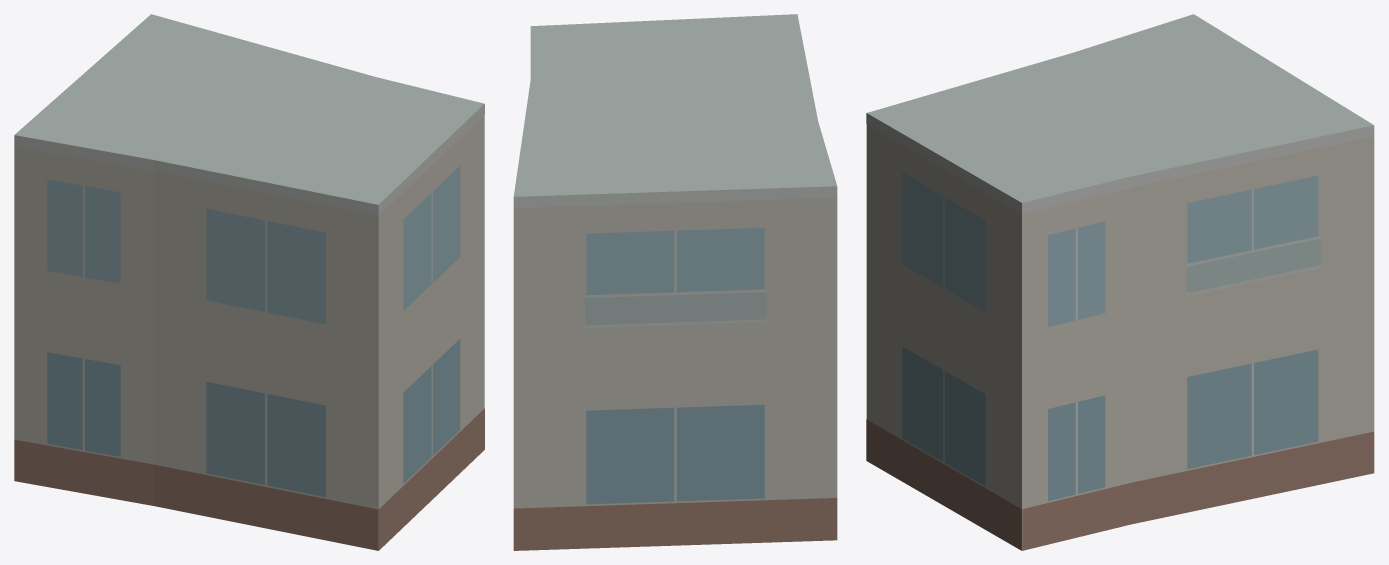
File: survey-upis-32474426.glb
3 views of the same model, side by side, from view 1: azimuth 30°, elevation 25°; view 2: azimuth 150°, elevation 25°; view 3: azimuth 270°, elevation 25° (orthographic). The views are drawn at different scales.
Parts seen in each view (by area): view 1: survey-upis-32474426.tmp; view 2: survey-upis-32474426.tmp; view 3: survey-upis-32474426.tmp.
Part boxes in pixels (box(x1,y1,x2,y2)): survey-upis-32474426.tmp: box(14, 14, 484, 550); survey-upis-32474426.tmp: box(513, 14, 837, 550); survey-upis-32474426.tmp: box(866, 14, 1374, 550).
Bounding box in the file's own units: 8.86 × 7.6 × 10.06.
